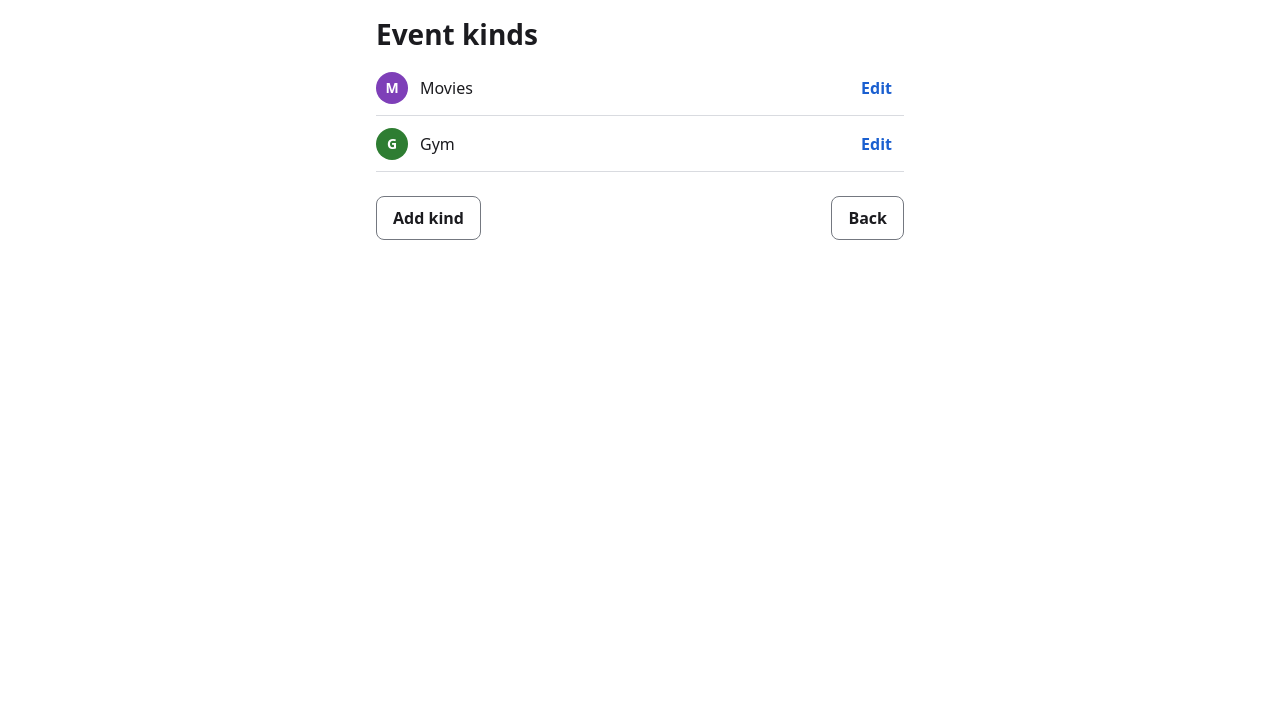
Scenario: the Event kinds page (AC-5, Block 3) › a rename persists exactly as in the walkthrough: repo.update gets (id, { name }, updatedAt) and the row shows the new name
Click the button with aria-label "Edit Movies" at (877,88), box [849, 66, 904, 110]
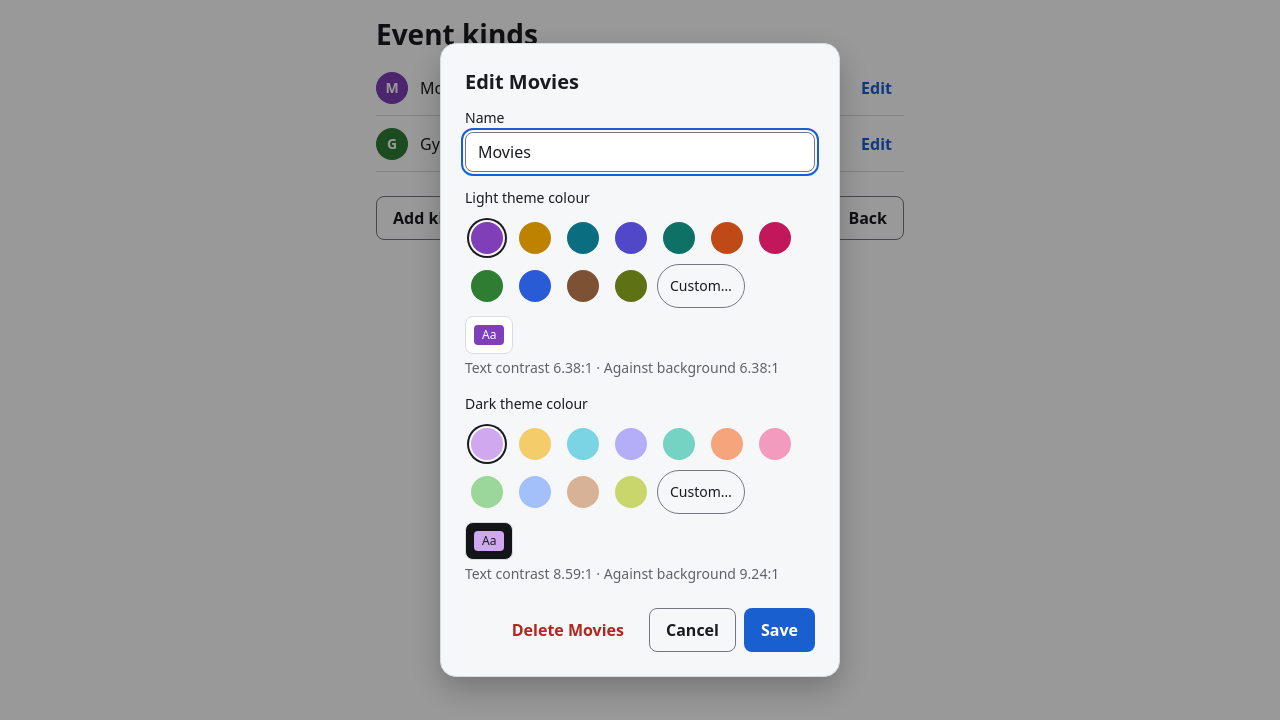
Replace the text in the field labelled "Name" with "Films" at (640,152), box [465, 132, 815, 172]
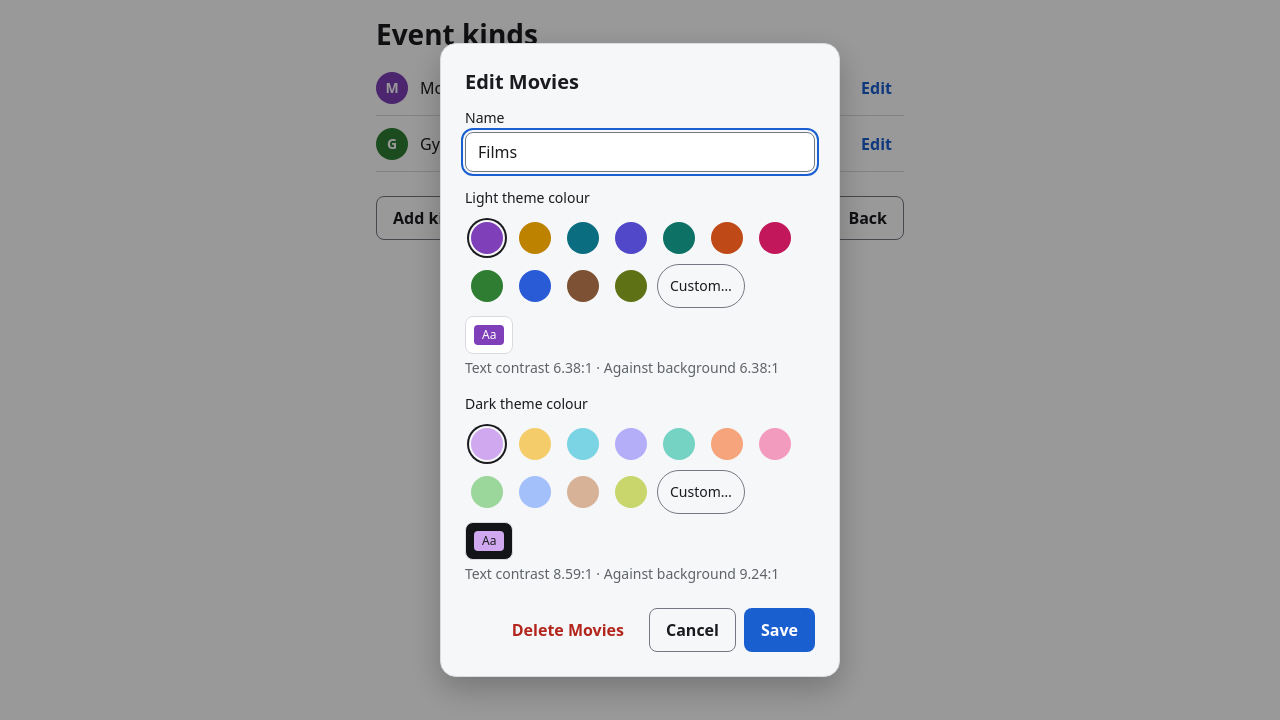
Click the button "Save" at (780,630), box [744, 608, 815, 652]
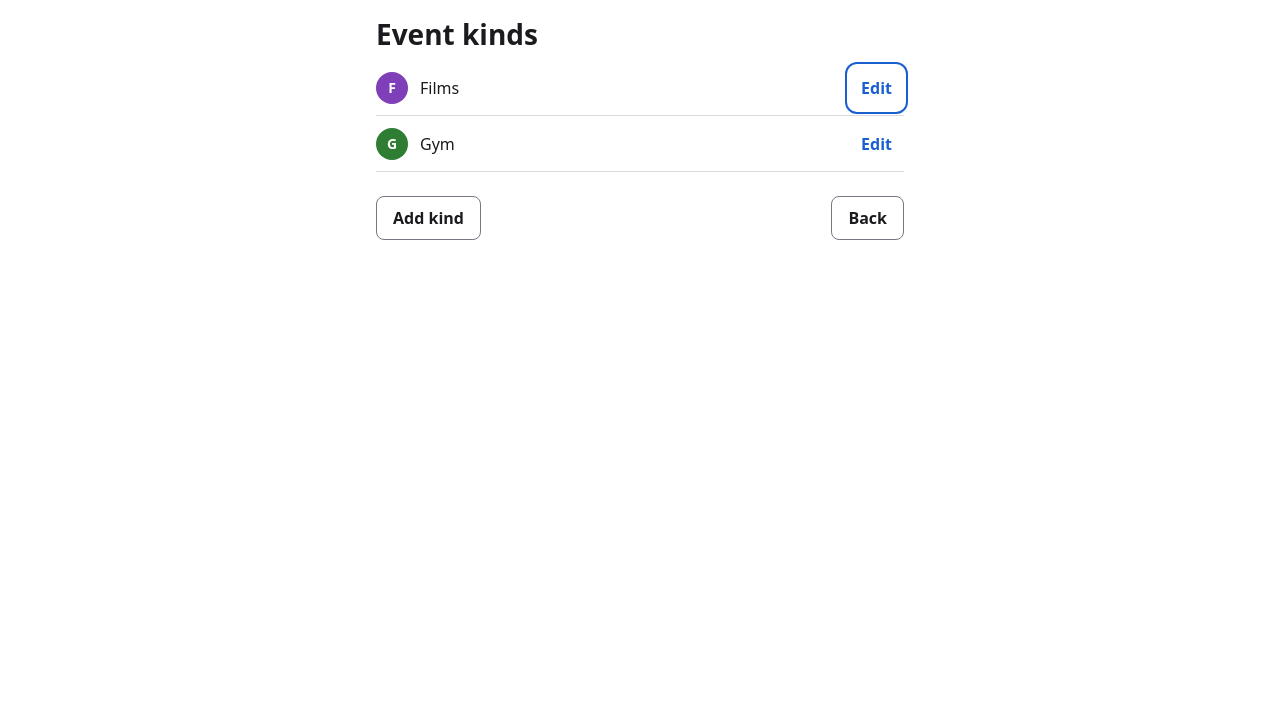
Expected: the button with aria-label "Edit Films" is shown, [849, 66, 904, 110]
